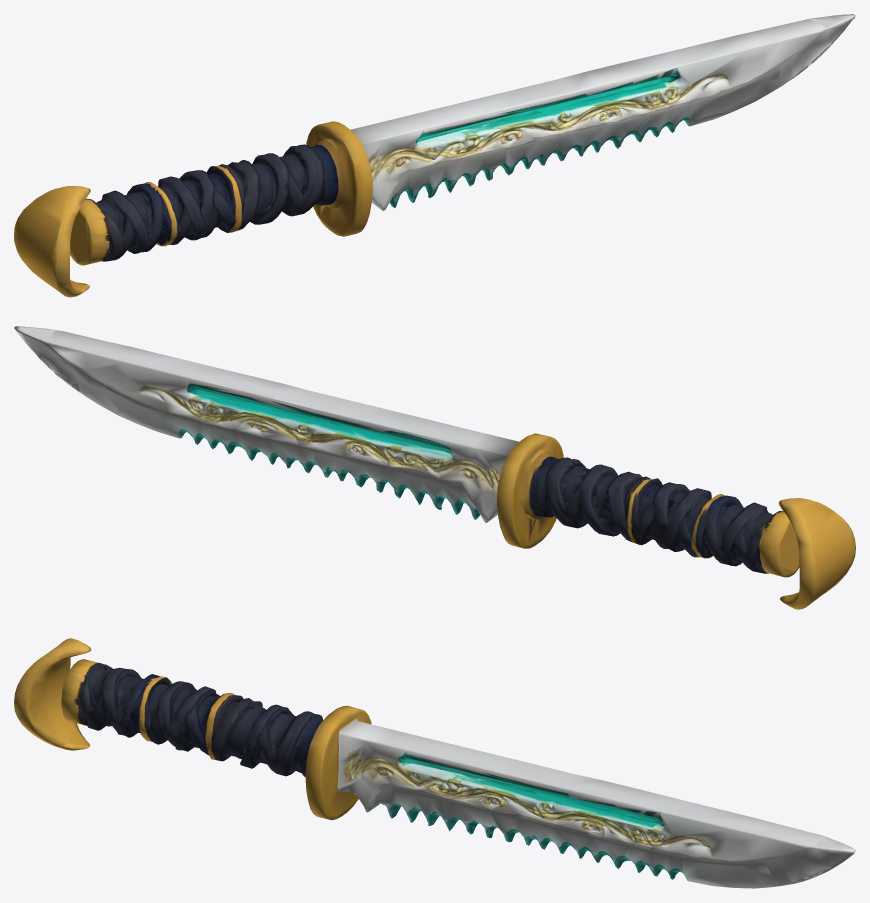
The model's file is prop_tomoe_blade.fbx.
3 renders of one model, top to bottom at view 1: azimuth 30°, elevation 25°; view 2: azimuth 150°, elevation 25°; view 3: azimuth 330°, elevation 25°, orthographic.
Visible parts, largest first — view 1: tripo_node_9e13d958-6850-49b6-bbd6-ea37174d3b87; view 2: tripo_node_9e13d958-6850-49b6-bbd6-ea37174d3b87; view 3: tripo_node_9e13d958-6850-49b6-bbd6-ea37174d3b87.
Part boxes in pixels (x1,y1,x2,y2): tripo_node_9e13d958-6850-49b6-bbd6-ea37174d3b87: (14, 14, 855, 297); tripo_node_9e13d958-6850-49b6-bbd6-ea37174d3b87: (14, 326, 855, 609); tripo_node_9e13d958-6850-49b6-bbd6-ea37174d3b87: (14, 638, 855, 888).
Bounding box in the file's own units: 0.9832 × 0.1212 × 0.1098.
